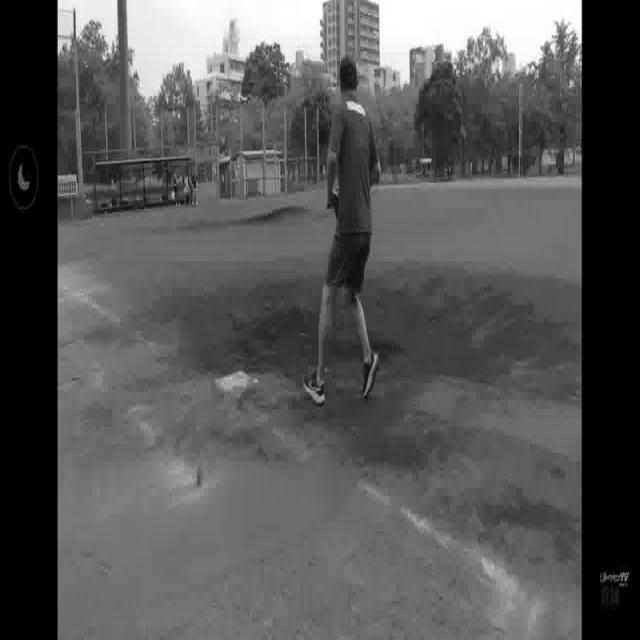base: (213, 363, 263, 402)
shoe: (300, 363, 334, 413), (358, 349, 380, 407)
